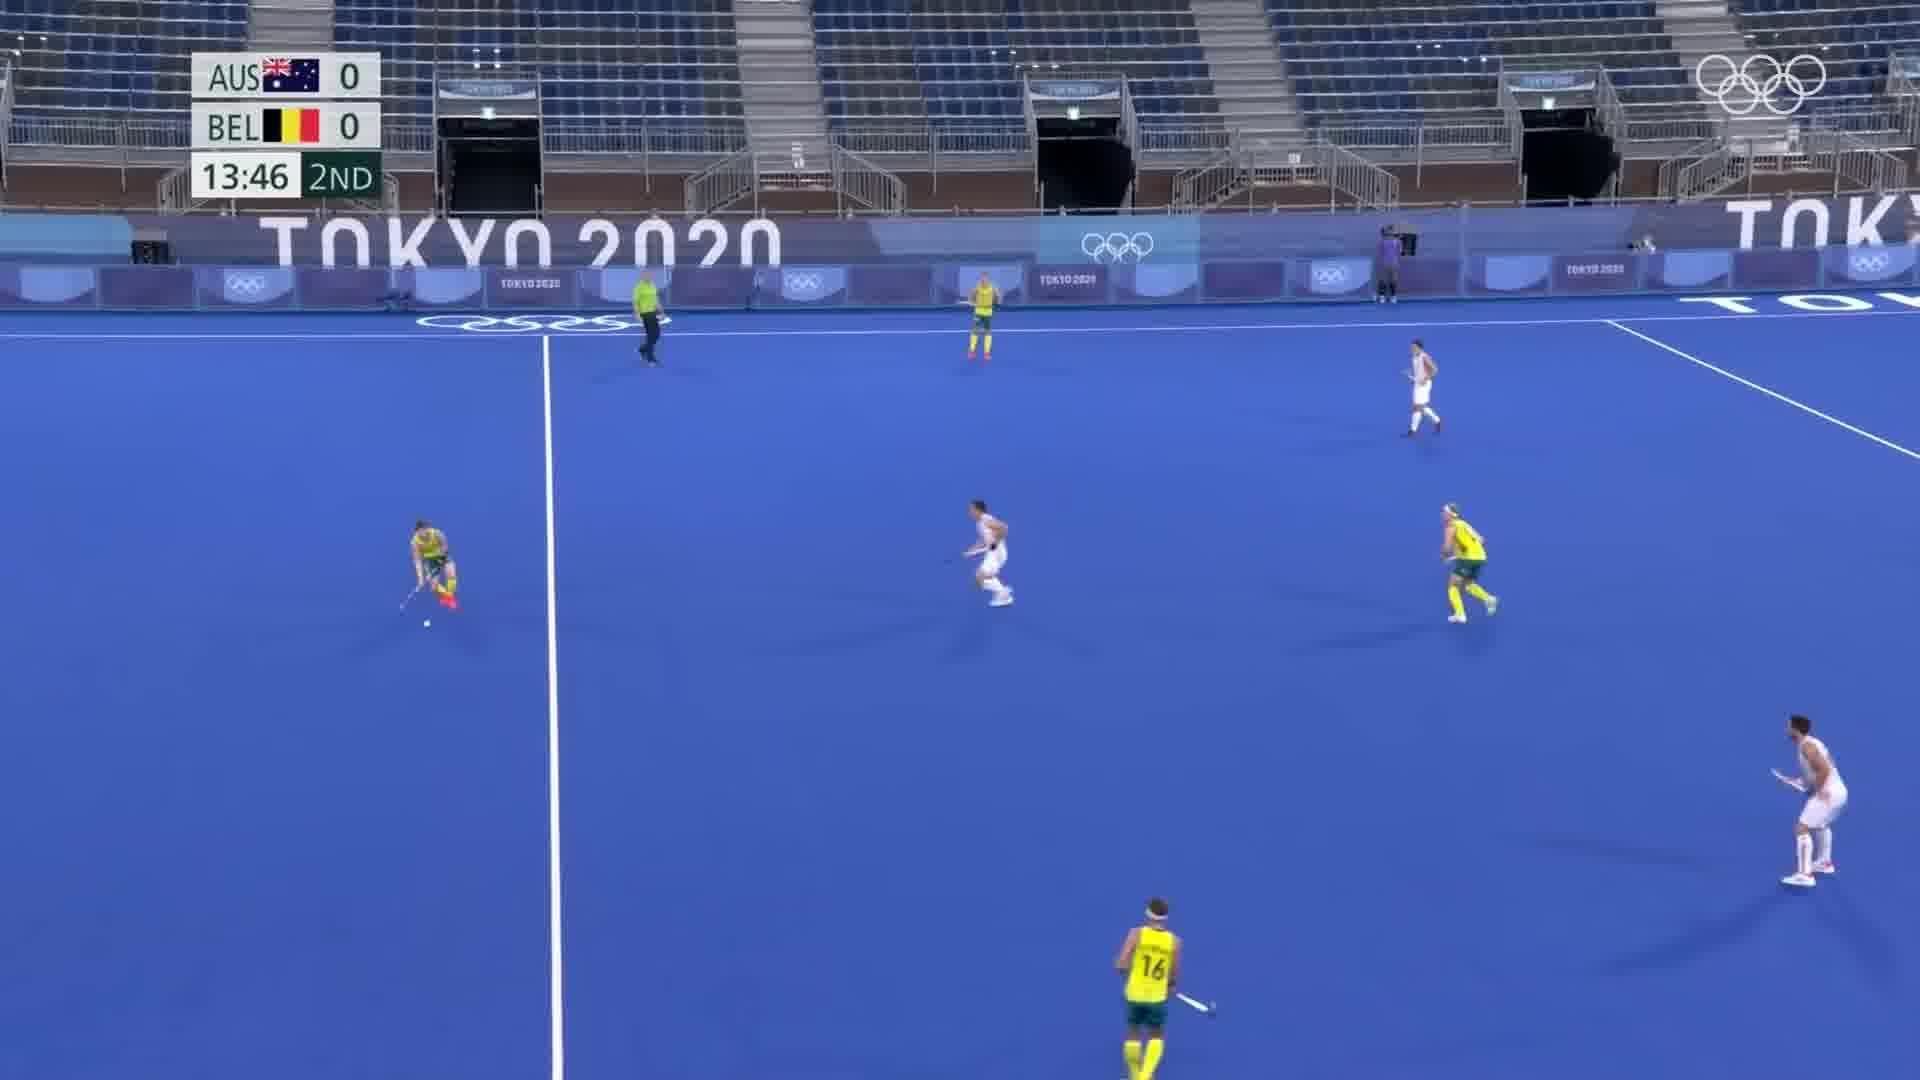ball: (417, 615, 440, 633)
